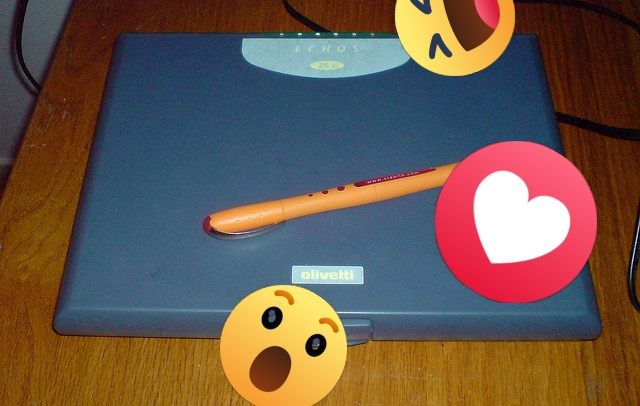haha: (395, 0, 515, 76)
love: (435, 141, 597, 303)
wow: (220, 285, 347, 406)
